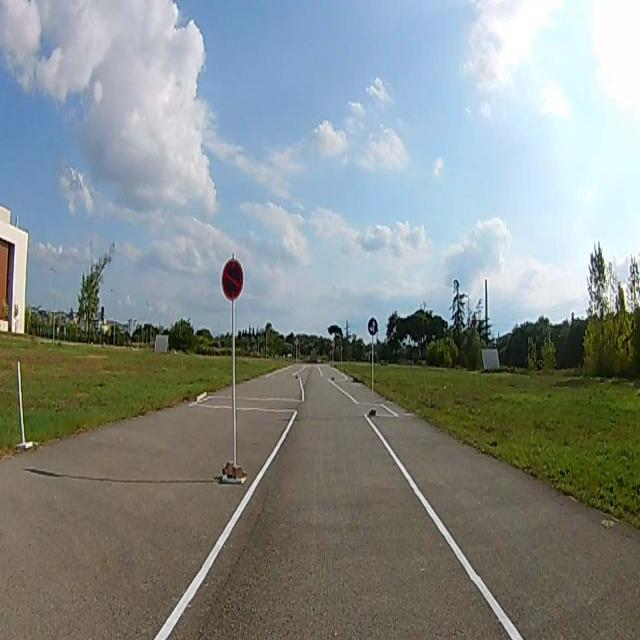ilerisol: (368, 317, 378, 335)
parkyasak: (221, 260, 243, 302)
